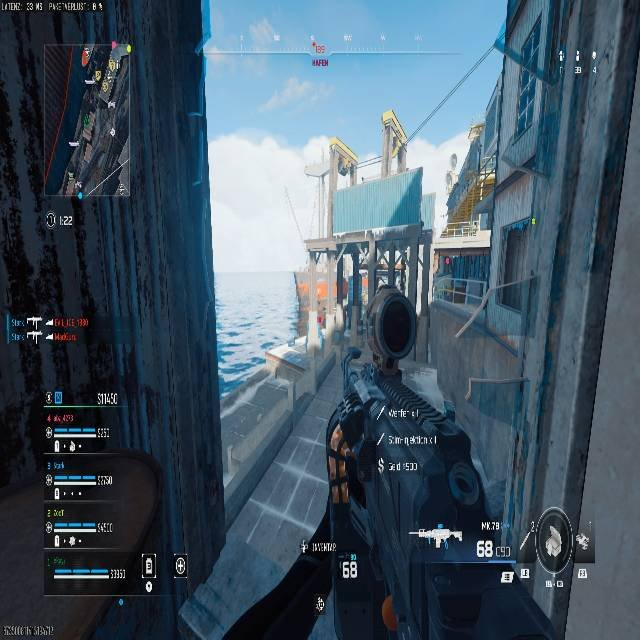player: (316, 307, 326, 344)
